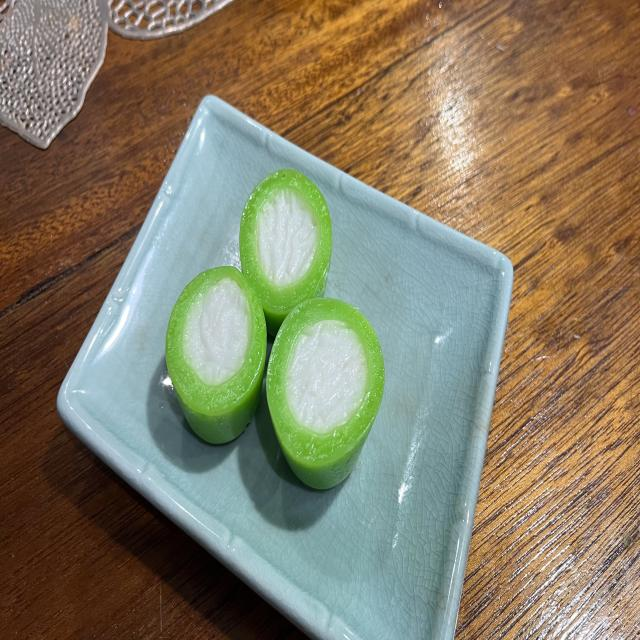nona-manis: (266, 298, 385, 489), (166, 267, 266, 444), (239, 169, 332, 336)
